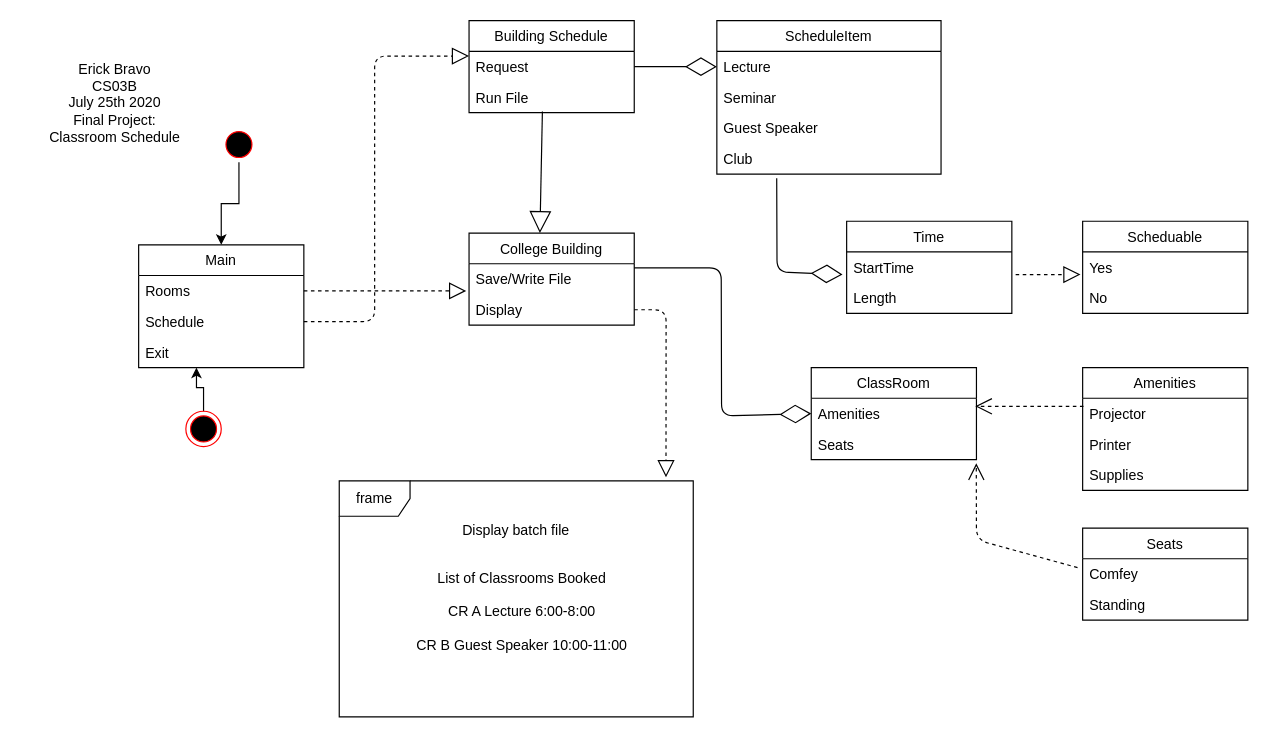
Image size: 1269x737. Some labels were removed from this diagram. Here are the shapes that lost their labels. From the top down, the centre of each, then its label:
pixel 238 144: Start
pixel 203 428: End
